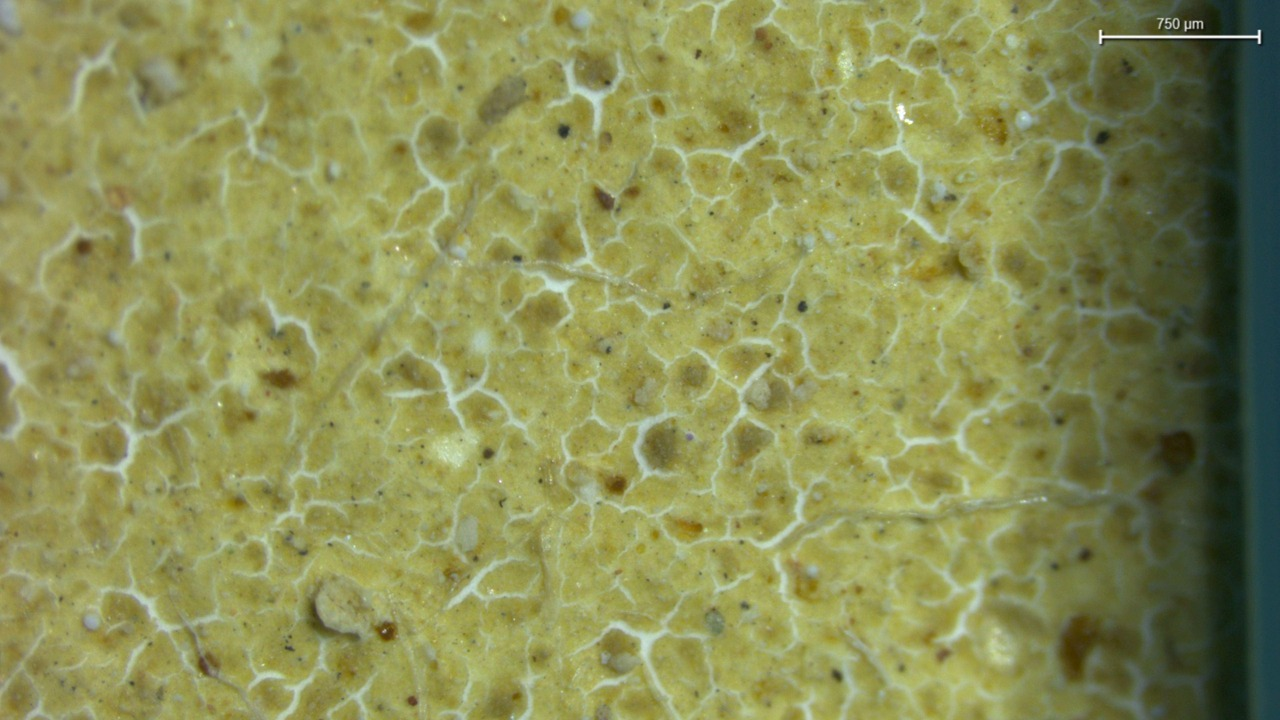microplastic_fragment: (312, 576, 375, 637)
